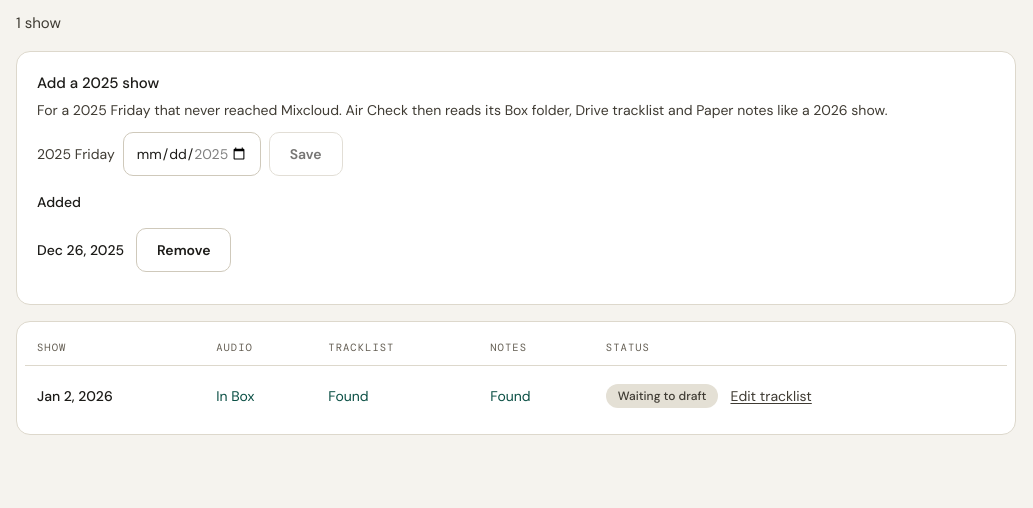
Scenario: Add a 2025 show › removing a drafted show is refused plainly
What coordinates should you click on to do the following:
click the button "Remove"
I would click on:
 (184, 250)
Its box is [136,228,232,272].
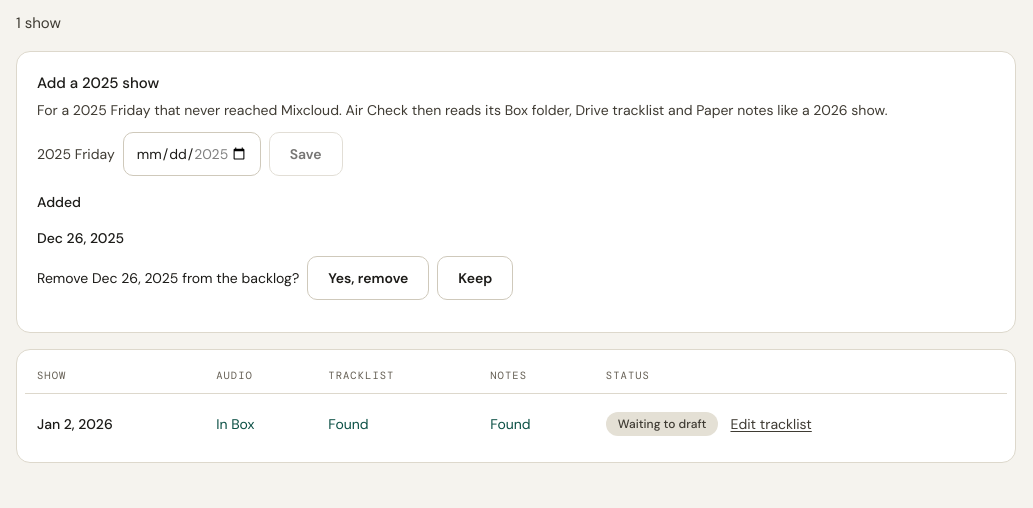
What coordinates should you click on to do the following:
click the button "Yes, remove"
I would click on:
 (368, 278)
Its box is [307,256,429,300].
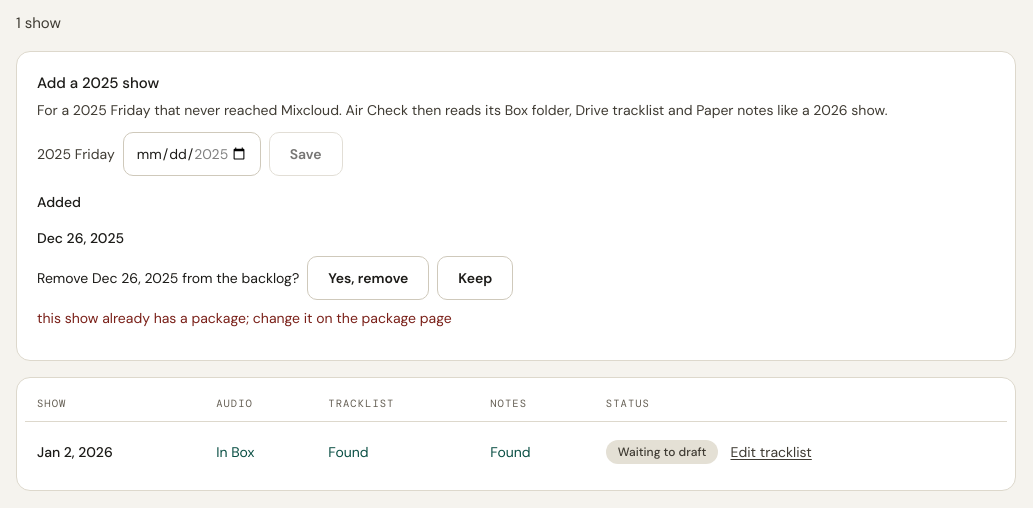
Now the message reads "this show already has a package; change it on the package page", box [37,308,452,326]
